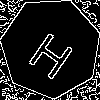H: (26, 23, 82, 82)
